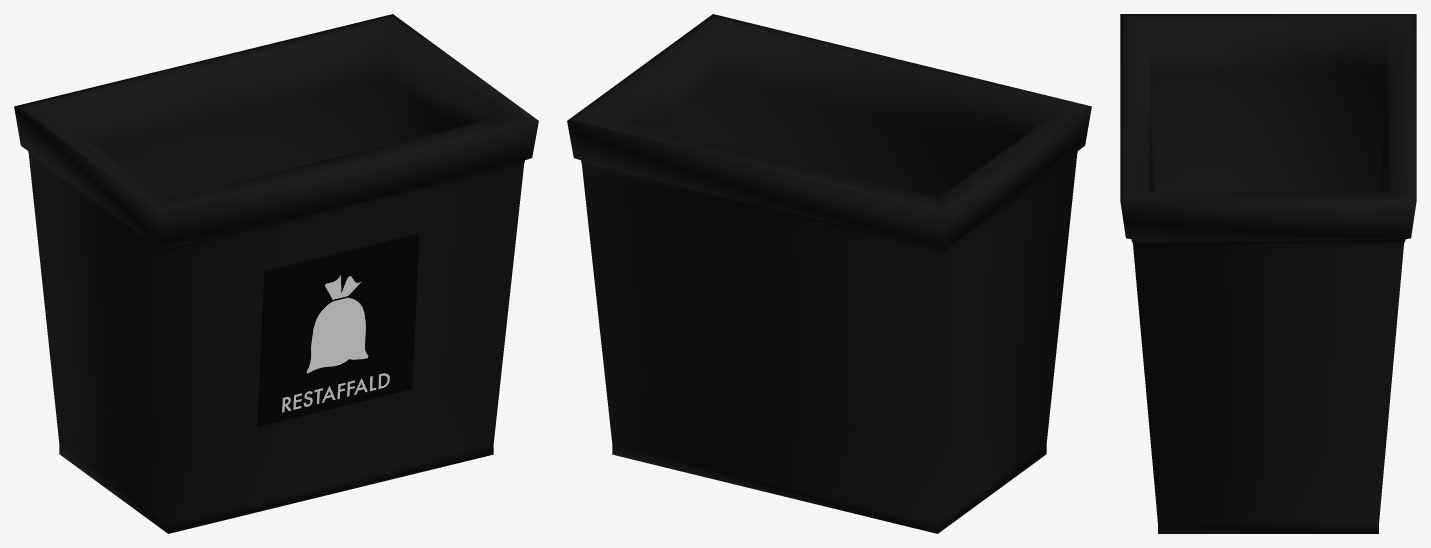
File: TrashcanRestAffald.fbx
The picture shows the model from 3 angles, left to right: view 1: azimuth 30°, elevation 25°; view 2: azimuth 150°, elevation 25°; view 3: azimuth 270°, elevation 25°; orthographic projection.
Visible parts, largest first — view 1: Trash_Restaffald; view 2: Trash_Restaffald; view 3: Trash_Restaffald.
Part boxes in pixels (x1,y1,x2,y2): Trash_Restaffald: (14,14,538,533); Trash_Restaffald: (567,14,1091,533); Trash_Restaffald: (1120,14,1416,533).
Size of the model in its own units: 447 by 384 by 298.
